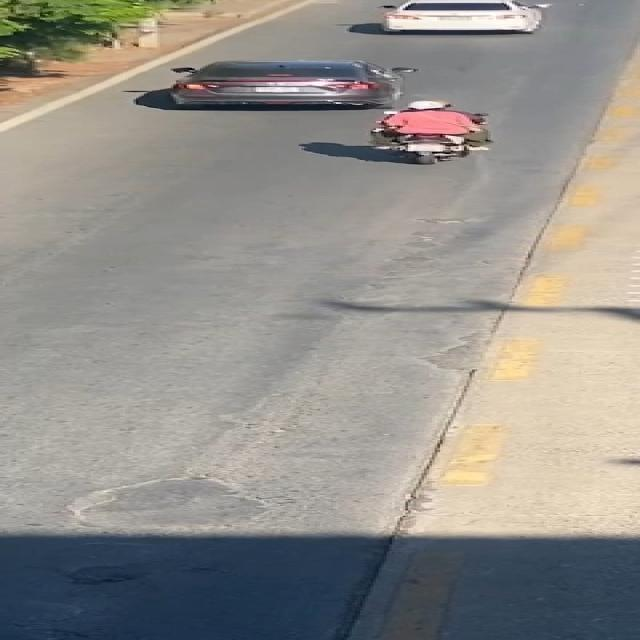car: (134, 52, 430, 108), (339, 0, 581, 36)
